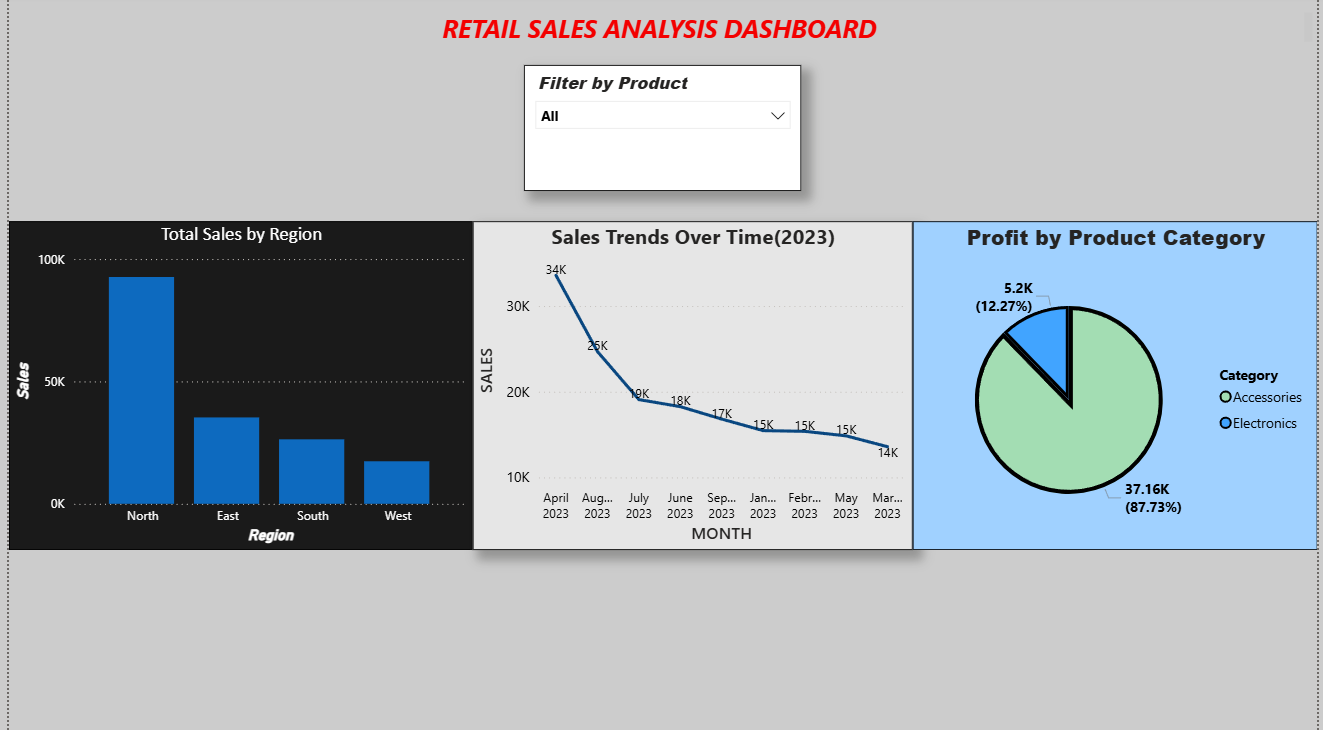

The page's visual inventory and layout, read from the dashboard file:
{"tool":"powerbi","page":{"name":"Page 1","canvas":[1280,720],"ordinal":0},"visuals":[{"type":"clusteredColumnChart","fields":{"Y":["retail_sales_100 (1).Total Sales"],"Category":["retail_sales_100 (1).Region"]},"box":[0,221.3,453.7,321.6],"z":0},{"type":"lineChart","title":"Sales Trends Over Time(2023)","fields":{"Y":["retail_sales_100 (1).Total Sales"],"Category":["DateTable.Month"]},"box":[453.7,221.3,430.4,321.6],"z":1000},{"type":"pieChart","title":"Profit by Product Category","fields":{"Category":["retail_sales_100 (1).Category"],"Y":["retail_sales_100 (1).Total Profit"]},"box":[884.1,221.3,396.2,321.6],"z":1001},{"type":"slicer","fields":{"Values":["retail_sales_100 (1).Product"]},"box":[503.8,68.5,271.5,123.5],"z":1002},{"type":"textbox","box":[0,12.2,1280.3,40.4],"z":1003}]}

Visuals, with their boxes in screenshot pixels (x1, y1, x2, y2), scaled from the page's 1280x720 canvas onto the 1323x730 screenshot:
clusteredColumnChart - retail_sales_100 (1).Total Sales x retail_sales_100 (1).Region: locate(0, 224, 469, 550)
"Sales Trends Over Time(2023)" lineChart: locate(469, 224, 914, 550)
"Profit by Product Category" pieChart: locate(914, 224, 1322, 550)
slicer - retail_sales_100 (1).Product: locate(521, 69, 801, 195)
textbox: locate(0, 12, 1322, 53)
